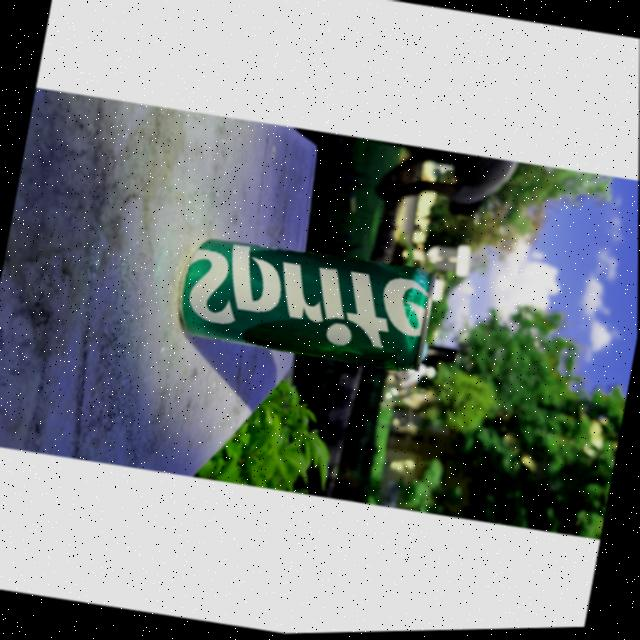Sprite: (175, 228, 439, 383)
